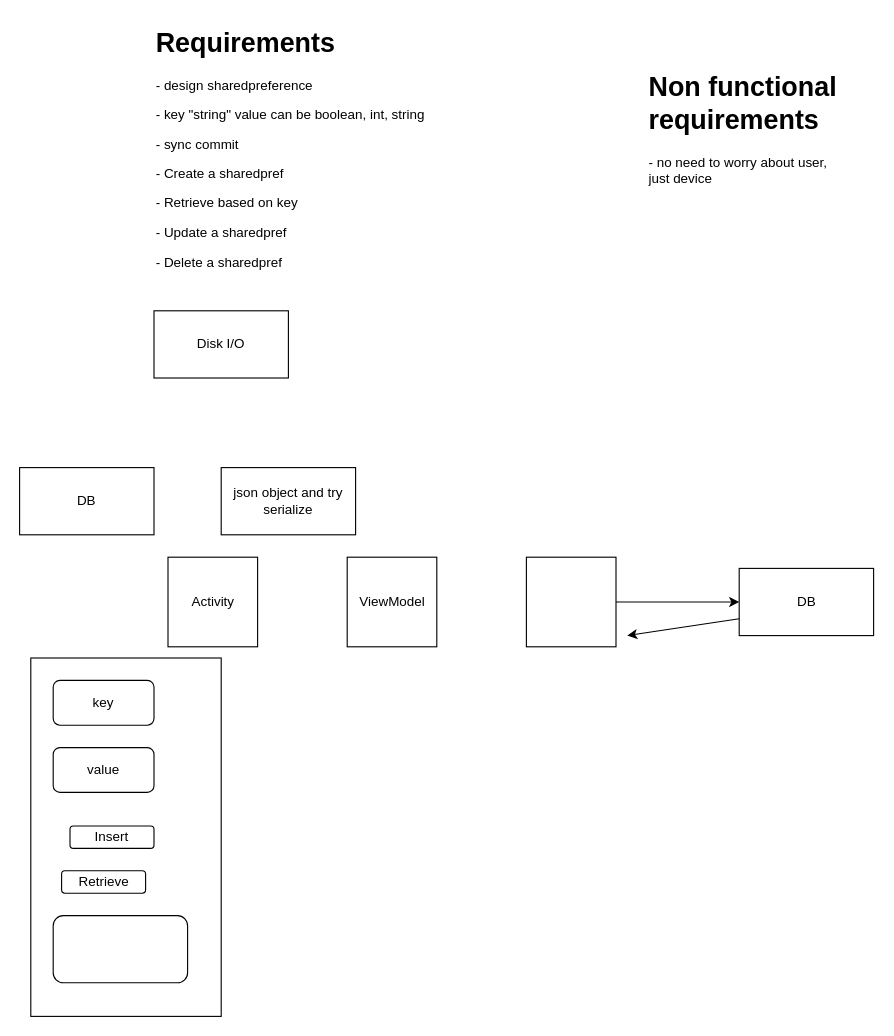
This 894x1036 diagram has some shape labels left out. Each missing label, with the centre of its shape:
"Repositiory" goes at (570,601).
"Result" goes at (120,948).
